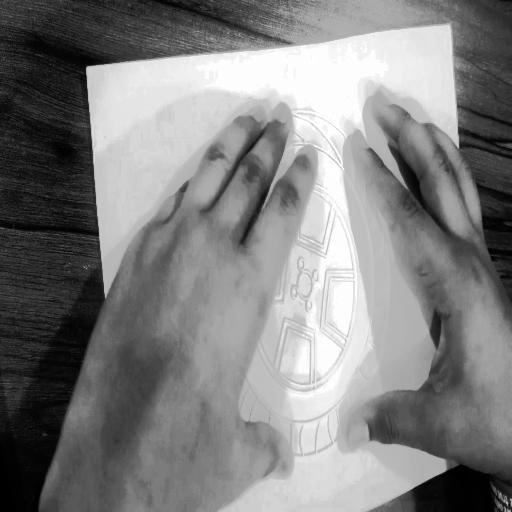tire: (173, 84, 417, 504)
top_left: (85, 59, 92, 81)
top_right: (446, 17, 453, 30)
